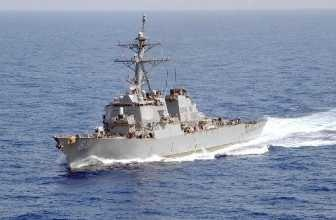warship: (39, 13, 273, 171)
